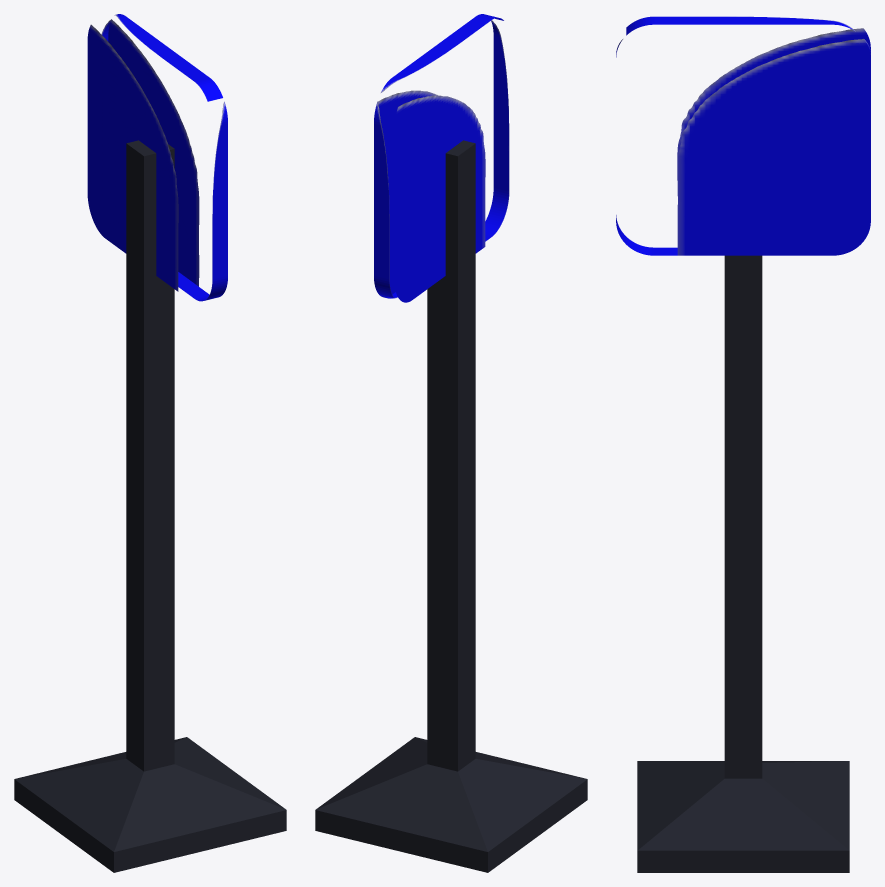
File: oneway.obj
3 views of the same model, side by side, from view 1: azimuth 30°, elevation 25°; view 2: azimuth 150°, elevation 25°; view 3: azimuth 270°, elevation 25° (orthographic). The views are drawn at different scales.
Parts seen in each view (by area): view 1: beam, Cube; view 2: beam, Cube; view 3: beam, Cube.
Boxes of the visible parts, <box> form: beam: <box>14,140,286,872</box>; Cube: <box>87,14,227,301</box>; beam: <box>315,140,587,872</box>; Cube: <box>374,14,509,302</box>; beam: <box>637,255,849,872</box>; Cube: <box>616,16,870,255</box>.
Bounding box in the file's own units: 0.05 × 0.2111 × 0.06.
2 materials, 1 textured.
